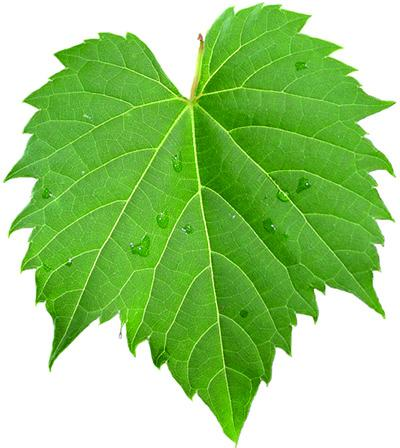grape leaf black rot: (1, 3, 392, 447)
